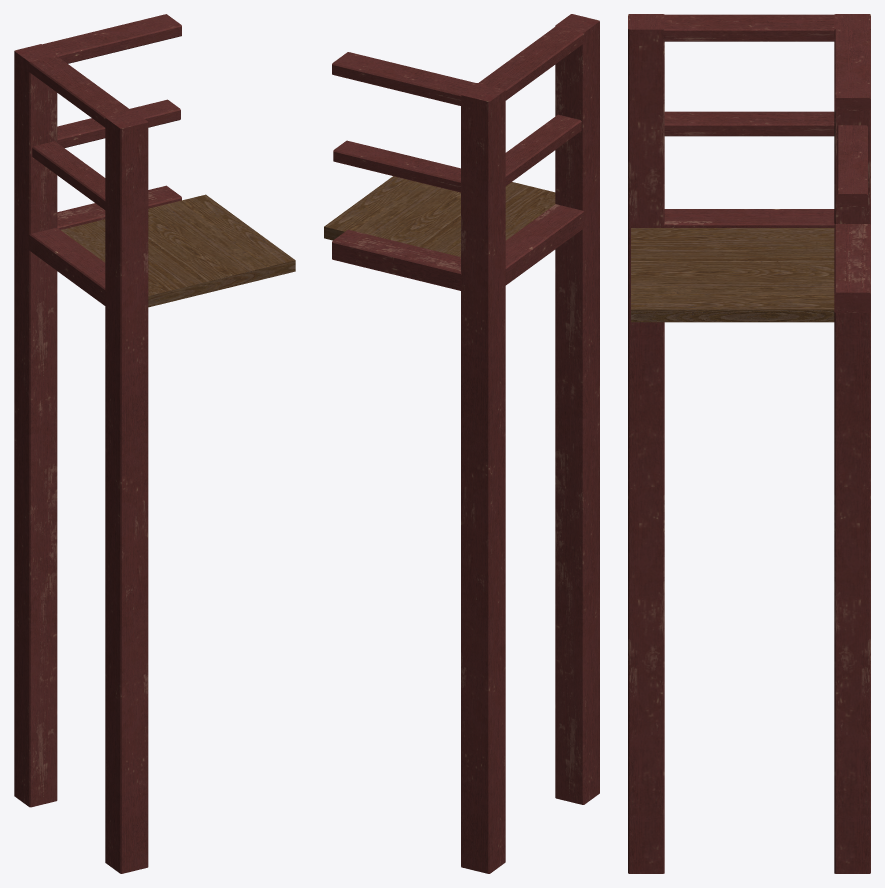
The model's file is SM_Stair02a.fbx.
3 renders of one model, left to right at view 1: azimuth 30°, elevation 25°; view 2: azimuth 150°, elevation 25°; view 3: azimuth 270°, elevation 25°, orthographic. The views are drawn at different scales.
Visible parts, largest first — view 1: SM_Stair02a; view 2: SM_Stair02a; view 3: SM_Stair02a.
Boxes of the visible parts, box(x1,y1,x2,y2) form: SM_Stair02a: box(14, 14, 295, 873); SM_Stair02a: box(324, 14, 599, 873); SM_Stair02a: box(628, 14, 870, 873).
Bounding box in the file's own units: 81.5 × 330 × 86.
